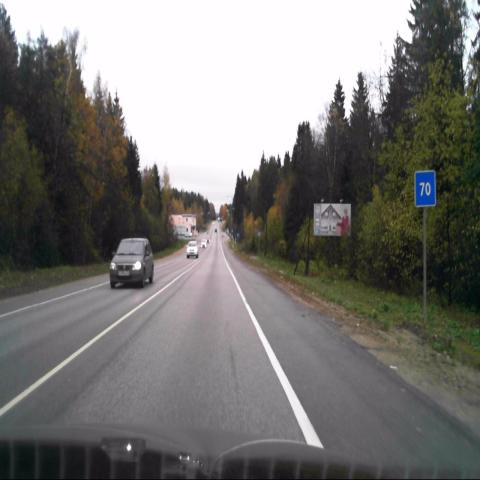6_2: (415, 171, 435, 206)
